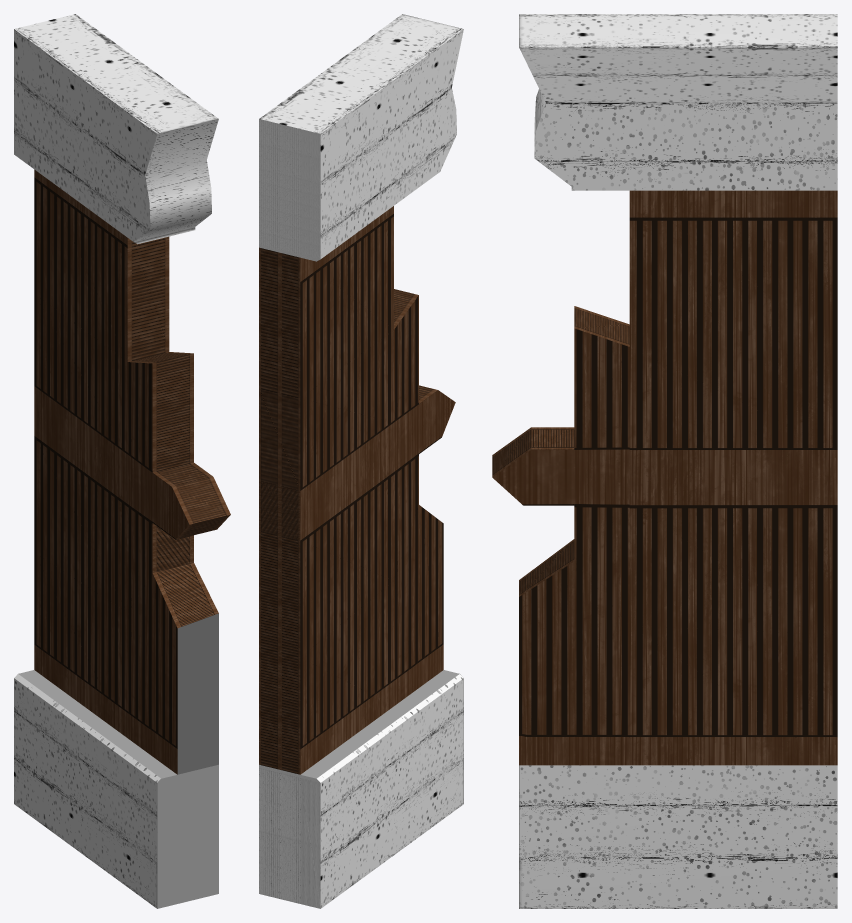
File: Wall_Spacer_Cardinal_Front_01_transitionfbx.fbx
3 views of the same model, side by side, from view 1: azimuth 30°, elevation 25°; view 2: azimuth 150°, elevation 25°; view 3: azimuth 270°, elevation 25° (orthographic). The views are drawn at different scales.
Parts seen in each view (by area): view 1: Wall_Spacer_Cardinal_Front_01_transition; view 2: Wall_Spacer_Cardinal_Front_01_transition; view 3: Wall_Spacer_Cardinal_Front_01_transition.
Part boxes in pixels (x1,y1,x2,y2): Wall_Spacer_Cardinal_Front_01_transition: (14,14,230,908); Wall_Spacer_Cardinal_Front_01_transition: (259,14,463,908); Wall_Spacer_Cardinal_Front_01_transition: (492,14,837,908).
Bounding box in the file's own units: 0.25 × 3 × 1.09.
